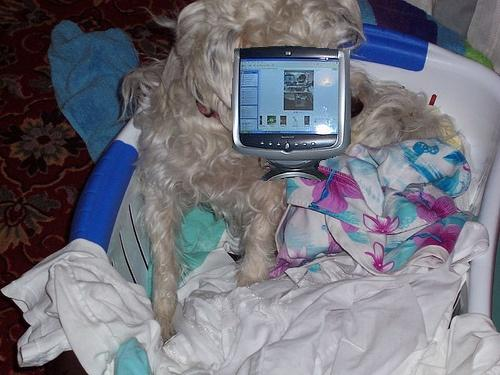tampered: (232, 46, 351, 181)
